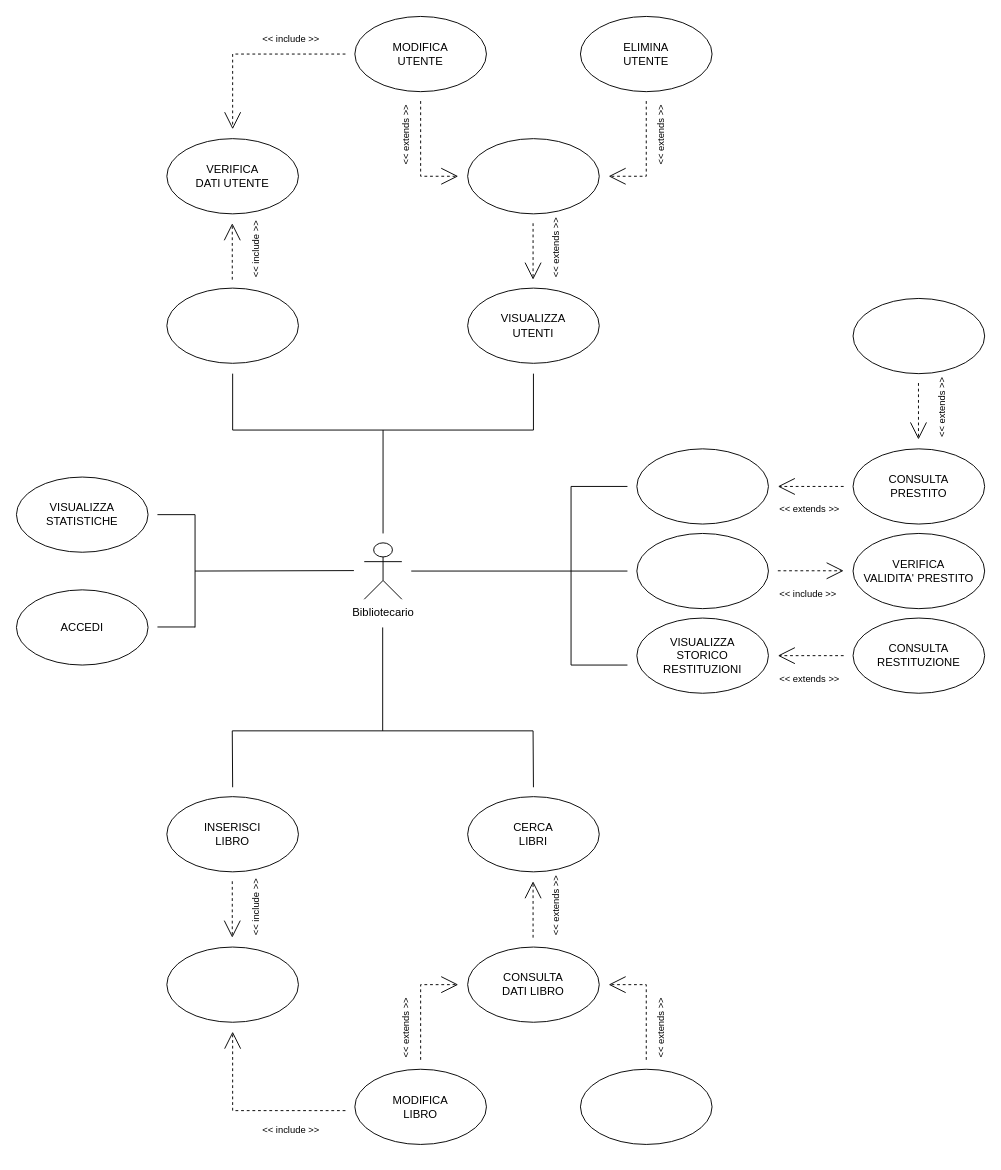
This 1001x1170 diagram has some shape labels left out. The centre of each missing label's shape, as x and y in pixels:
"AGGIUNGI PRESTITO" goes at [702,571].
"CANCELLA LIBRO" goes at [646,1106].
"CONSULTA DATI UTENTE" goes at [533,176].
"INSERISCI UTENTE" goes at [232,325].
"TERMINA PRESTITO" goes at [918,336].
"VERIFICA DATI LIBRO" goes at [232,984].
"VISUALIZZA PRESTITI ATTIVI" goes at [702,486].
